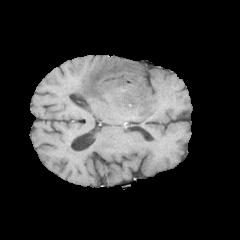glioma: (56, 59, 178, 116)
